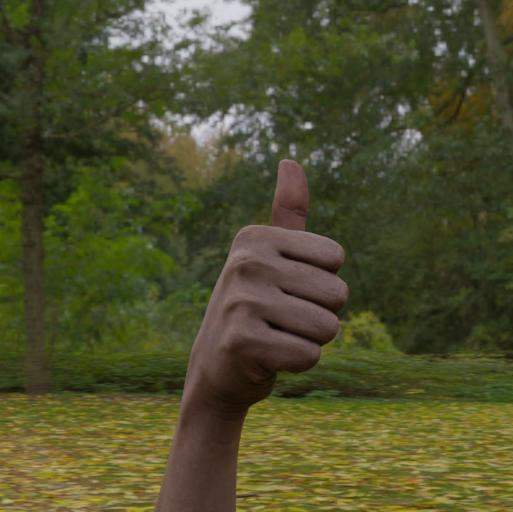thumbs-up: (188, 152, 354, 429)
